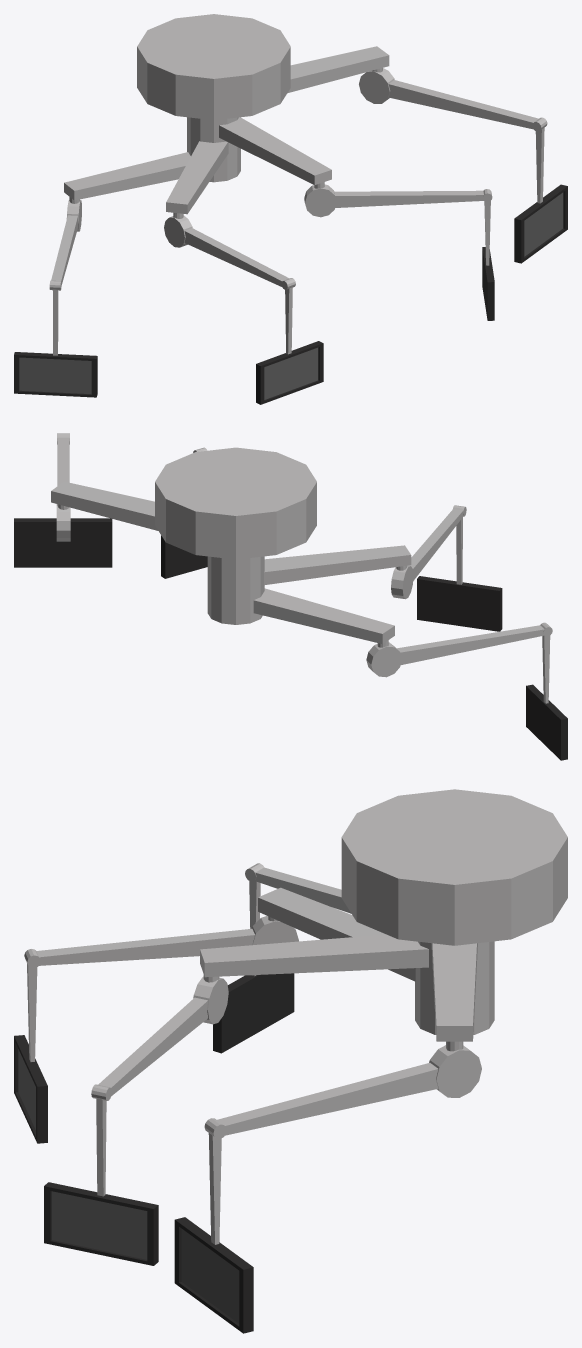
The model's file is ScreenHolder.fbx.
3 views of the same model, one above another, from view 1: azimuth 30°, elevation 25°; view 2: azimuth 150°, elevation 25°; view 3: azimuth 270°, elevation 25° (orthographic). The views are drawn at different scales.
Visible parts, largest first — view 1: ScreenHolder, Leg_2a, Leg_4a, Leg_3a, Leg_1a, Leg_1, Leg_3, Leg_2, Leg_4; view 2: ScreenHolder, Leg_4a, Leg_2a, Leg_3a, Leg_4, Leg_3, Leg_2, Leg_1a; view 3: ScreenHolder, Leg_2a, Leg_1a, Leg_4a, Leg_1, Leg_3a, Leg_2, Leg_4.
Boxes of the visible parts, left/top/right/bottom form: ScreenHolder: left=137, top=14, right=290, bottom=182; Leg_2a: left=359, top=68, right=567, bottom=263; Leg_4a: left=164, top=215, right=323, bottom=404; Leg_3a: left=14, top=200, right=97, bottom=397; Leg_1a: left=304, top=184, right=494, bottom=320; Leg_1: left=219, top=117, right=331, bottom=188; Leg_3: left=64, top=152, right=190, bottom=203; Leg_2: left=287, top=46, right=389, bottom=93; Leg_4: left=166, top=141, right=228, bottom=218; ScreenHolder: left=155, top=447, right=316, bottom=624; Leg_4a: left=391, top=505, right=502, bottom=631; Leg_2a: left=14, top=433, right=112, bottom=567; Leg_3a: left=366, top=622, right=567, bottom=760; Leg_4: left=264, top=545, right=411, bottom=585; Leg_3: left=253, top=588, right=394, bottom=647; Leg_2: left=51, top=481, right=158, bottom=530; Leg_1a: left=161, top=447, right=207, bottom=578; ScreenHolder: left=341, top=789, right=567, bottom=1034; Leg_2a: left=174, top=1045, right=481, bottom=1333; Leg_1a: left=44, top=976, right=228, bottom=1265; Leg_4a: left=14, top=916, right=298, bottom=1143; Leg_1: left=200, top=934, right=428, bottom=982; Leg_3a: left=213, top=863, right=351, bottom=1053; Leg_2: left=431, top=943, right=477, bottom=1051; Leg_4: left=258, top=887, right=415, bottom=981.
Bounding box in the file's own units: 239 × 103 × 144.
